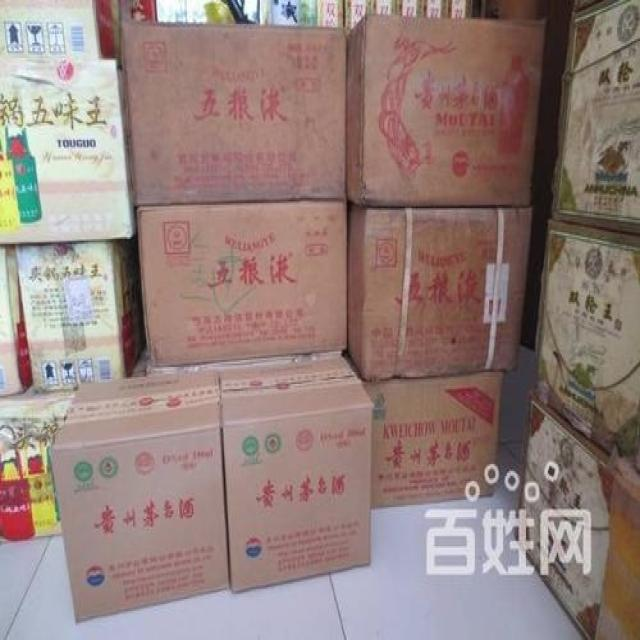box: (47, 370, 231, 622), (121, 22, 346, 206), (346, 15, 545, 204), (220, 356, 374, 591), (138, 201, 347, 367), (347, 200, 532, 380), (533, 218, 639, 460), (0, 58, 139, 242), (344, 354, 503, 508), (514, 396, 616, 636), (551, 2, 639, 232), (17, 238, 143, 392), (1, 380, 79, 541), (598, 451, 639, 638), (0, 0, 116, 58), (0, 245, 32, 399)
